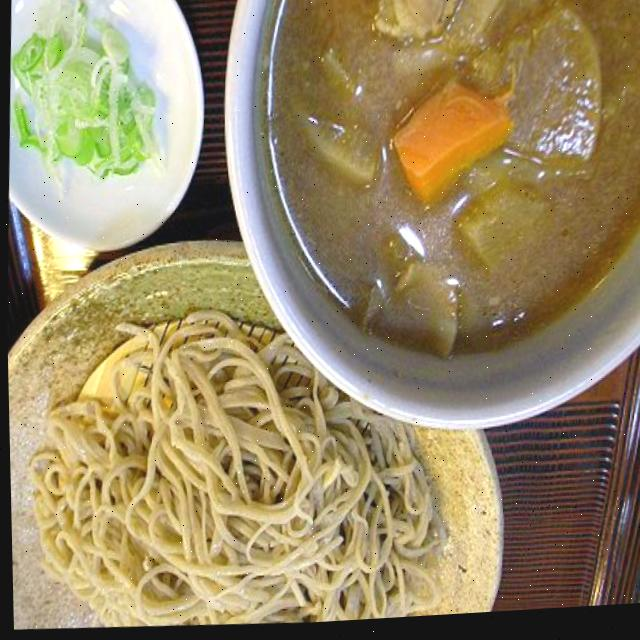面条主食: (4, 214, 517, 640)
